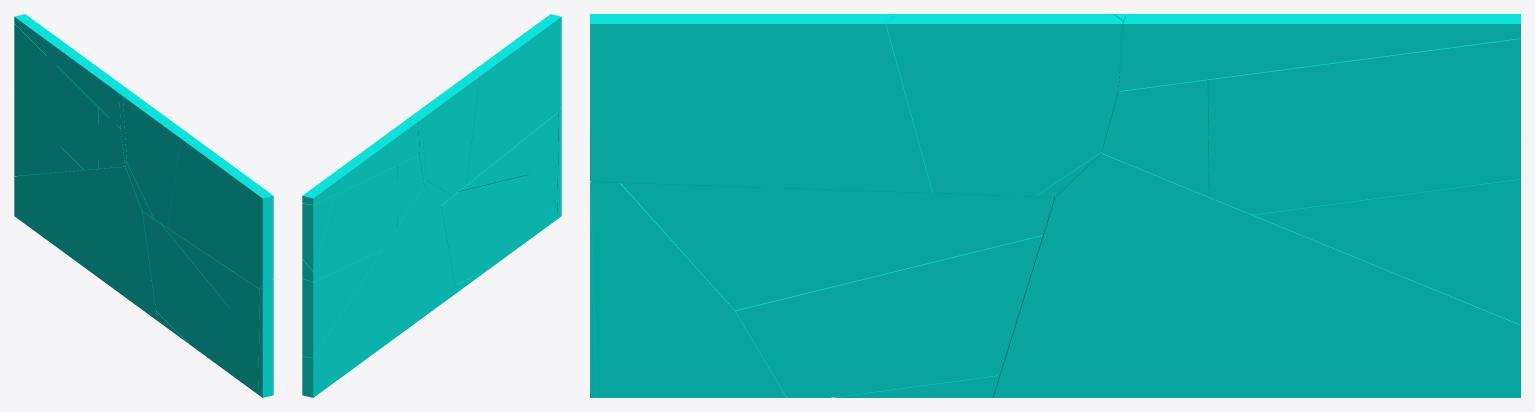
File: window_d.fbx
3 renders of one model, left to right at view 1: azimuth 30°, elevation 25°; view 2: azimuth 150°, elevation 25°; view 3: azimuth 270°, elevation 25°, orthographic. The views are drawn at different scales.
Visible parts, largest first — view 1: Window_cell.001, Window_cell.007_cell, Window_cell.006_cell, Window_cell.008_cell.001, Window_cell.007_cell.002, Window_cell.006_cell.002, Window_cell.009, Window_cell.008_cell, Window_cell.006_cell.003, Window_cell.010, Window_cell.008_cell.003, Window_cell.008_cell.002 (+2 smaller); view 2: Window_cell.001, Window_cell.007_cell, Window_cell.006_cell, Window_cell.008_cell.001, Window_cell.007_cell.002, Window_cell.008_cell, Window_cell.006_cell.002, Window_cell.009, Window_cell.006_cell.003, Window_cell.008_cell.002, Window_cell.008_cell.003, Window_cell.010 (+2 smaller); view 3: Window_cell.001, Window_cell.007_cell, Window_cell.008_cell.001, Window_cell.007_cell.002, Window_cell.006_cell.003, Window_cell.006_cell, Window_cell.006_cell.002, Window_cell.009, Window_cell.008_cell, Window_cell.008_cell.003, Window_cell.008_cell.002, Window_cell.006_cell.001 (+1 smaller).
Boxes of the visible parts, bbox=[...] form: Window_cell.001: bbox=[14, 166, 157, 320]; Window_cell.007_cell: bbox=[167, 138, 273, 288]; Window_cell.006_cell: bbox=[142, 211, 229, 359]; Window_cell.008_cell.001: bbox=[14, 45, 98, 169]; Window_cell.007_cell.002: bbox=[123, 92, 193, 227]; Window_cell.006_cell.002: bbox=[210, 280, 272, 394]; Window_cell.009: bbox=[14, 14, 131, 128]; Window_cell.008_cell: bbox=[14, 101, 83, 175]; Window_cell.006_cell.003: bbox=[160, 223, 247, 307]; Window_cell.010: bbox=[258, 280, 273, 397]; Window_cell.008_cell.003: bbox=[98, 108, 125, 168]; Window_cell.008_cell.002: bbox=[14, 23, 35, 88]; Window_cell.001: bbox=[302, 186, 456, 397]; Window_cell.007_cell: bbox=[466, 14, 561, 185]; Window_cell.006_cell: bbox=[441, 175, 528, 284]; Window_cell.008_cell.001: bbox=[302, 165, 397, 281]; Window_cell.007_cell.002: bbox=[409, 72, 479, 196]; Window_cell.008_cell: bbox=[302, 250, 382, 357]; Window_cell.006_cell.002: bbox=[509, 112, 558, 253]; Window_cell.009: bbox=[302, 118, 419, 204]; Window_cell.006_cell.003: bbox=[459, 121, 546, 191]; Window_cell.008_cell.002: bbox=[302, 195, 334, 270]; Window_cell.008_cell.003: bbox=[397, 155, 423, 226]; Window_cell.010: bbox=[557, 106, 561, 218]; Window_cell.001: bbox=[993, 149, 1520, 397]; Window_cell.007_cell: bbox=[590, 14, 933, 193]; Window_cell.008_cell.001: bbox=[1207, 47, 1520, 214]; Window_cell.007_cell.002: bbox=[886, 14, 1123, 196]; Window_cell.006_cell.003: bbox=[621, 183, 1054, 310]; Window_cell.006_cell: bbox=[735, 235, 1042, 397]; Window_cell.006_cell.002: bbox=[591, 182, 786, 397]; Window_cell.009: bbox=[1118, 14, 1520, 91]; Window_cell.008_cell: bbox=[1253, 179, 1520, 324]; Window_cell.008_cell.003: bbox=[1102, 79, 1208, 196]; Window_cell.008_cell.002: bbox=[1452, 38, 1520, 142]; Window_cell.006_cell.001: bbox=[834, 375, 999, 397].
Bounding box in the file's own units: 8.79 × 153 × 344.
